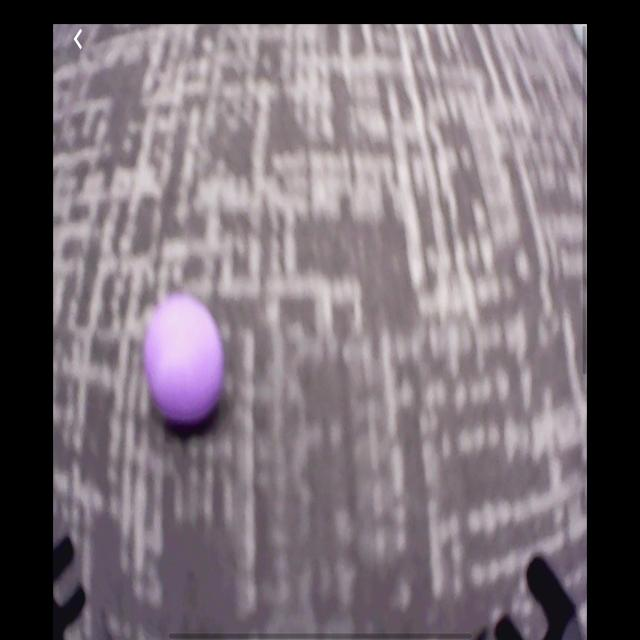ball: (144, 299, 225, 425)
